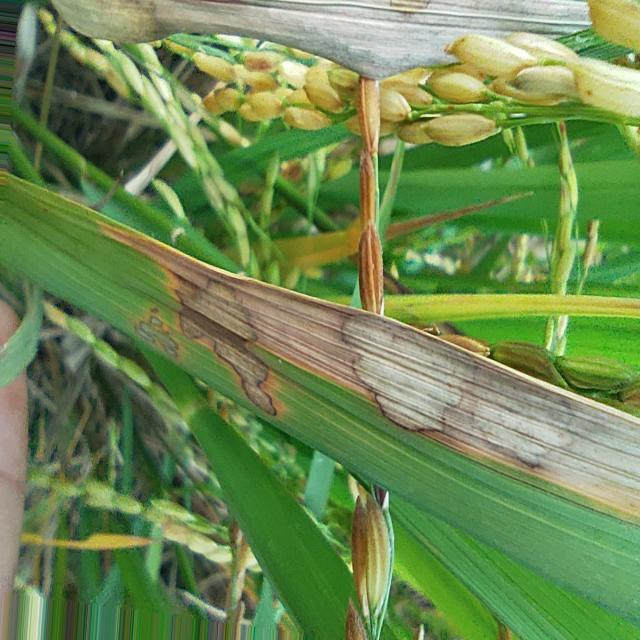Leaf_Blast: (385, 293, 640, 322), (385, 192, 532, 239)
Rice False Smut: (98, 220, 640, 522), (130, 315, 179, 359)
